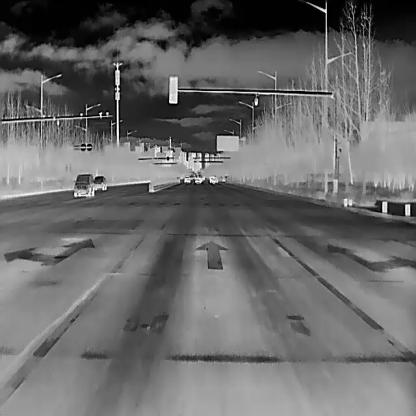car: (72, 173, 94, 197), (94, 174, 106, 188), (192, 171, 202, 183), (209, 174, 216, 182), (183, 175, 189, 182)
